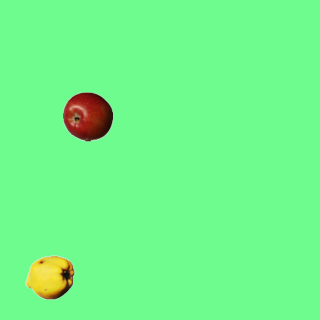Apple Braeburn: (62, 91, 112, 141)
Quince: (24, 252, 74, 302)
